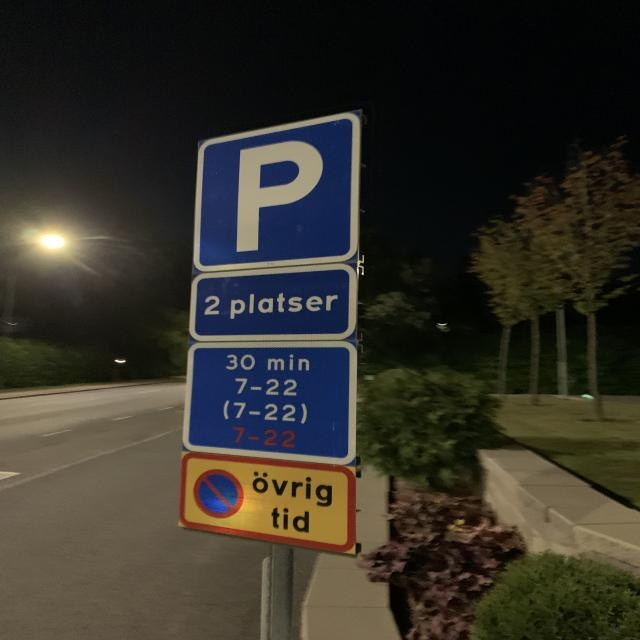P-skylt: (189, 109, 367, 276)
